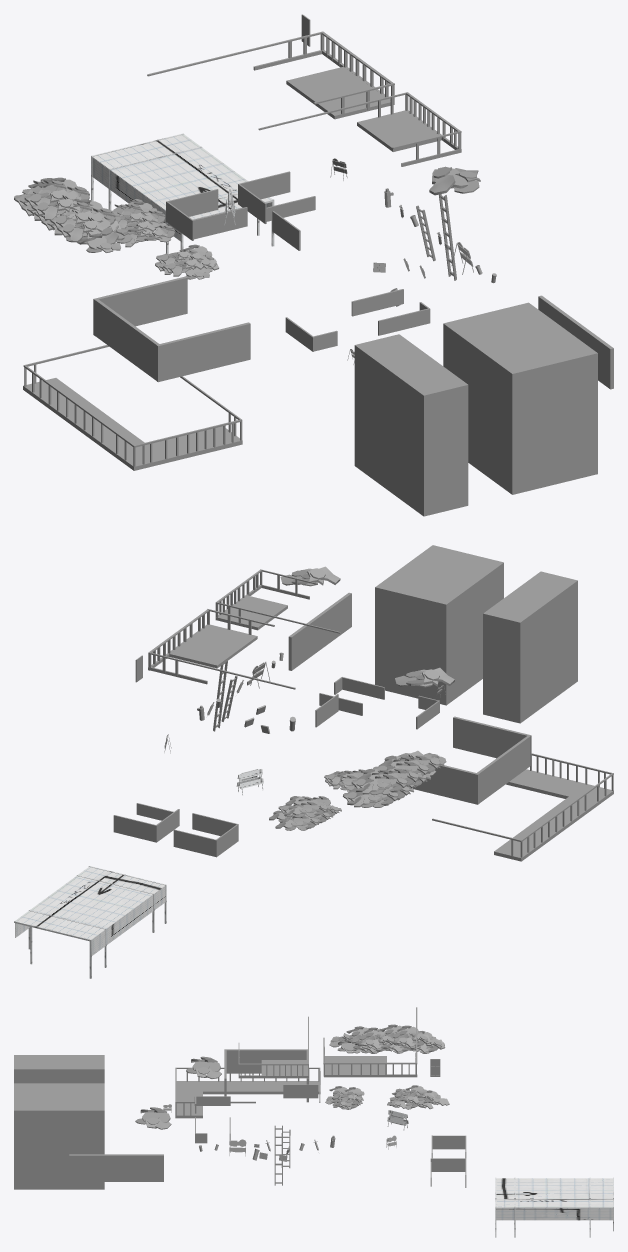
The model's file is Parts_and_pieces.fbx.
The picture shows the model from 3 angles, top to bottom: view 1: azimuth 30°, elevation 25°; view 2: azimuth 150°, elevation 25°; view 3: azimuth 270°, elevation 25°; orthographic projection. The views are drawn at different scales.
Parts seen in each view (by area): view 1: polySurface807, polySurface809, polySurface943, polySurface806, polySurface543, polySurface944, polySurface541, polySurface1621, polySurface1623, polySurface1622, polySurface1002, polySurface808 (+8 smaller); view 2: polySurface807, polySurface809, polySurface943, polySurface806, polySurface543, polySurface944, polySurface541, polySurface808, polySurface1621, polySurface1622, polySurface1002, polySurface1623 (+5 smaller); view 3: polySurface807, polySurface943, polySurface808, polySurface809, polySurface806, polySurface944, polySurface543, polySurface1622, polySurface541, polySurface1002, polySurface1548, polySurface422 (+5 smaller).
Part boxes in pixels (box(x1,y1,x2,y2)): polySurface807: box(443, 302, 597, 494); polySurface809: box(354, 334, 468, 516); polySurface943: box(91, 133, 274, 253); polySurface806: box(23, 345, 242, 470); polySurface543: box(147, 31, 394, 119); polySurface944: box(14, 177, 132, 252); polySurface541: box(258, 92, 461, 166); polySurface1621: box(156, 322, 250, 382); polySurface1623: box(93, 276, 187, 335); polySurface1622: box(94, 298, 158, 380); polySurface1002: box(111, 199, 174, 247); polySurface808: box(538, 295, 613, 389); polySurface807: box(375, 545, 503, 705); polySurface809: box(483, 571, 577, 723); polySurface943: box(14, 866, 166, 978); polySurface806: box(432, 753, 613, 861); polySurface543: box(148, 609, 295, 689); polySurface944: box(343, 750, 446, 807); polySurface541: box(215, 569, 340, 633); polySurface808: box(288, 592, 351, 670); polySurface1621: box(453, 716, 531, 766); polySurface1622: box(475, 735, 530, 803); polySurface1002: box(269, 796, 341, 830); polySurface1623: box(413, 765, 479, 804); polySurface807: box(14, 1083, 104, 1189); polySurface943: box(495, 1177, 613, 1237); polySurface808: box(69, 1154, 163, 1181); polySurface809: box(14, 1055, 104, 1083); polySurface806: box(175, 1067, 320, 1118); polySurface944: box(329, 1024, 445, 1053); polySurface543: box(323, 1007, 417, 1077); polySurface1622: box(224, 1049, 307, 1073); polySurface541: box(238, 1016, 308, 1078); polySurface1002: box(387, 1085, 449, 1109); polySurface1548: box(325, 1086, 364, 1109); polySurface422: box(135, 1107, 171, 1129).
Bounding box in the file's own units: 10 × 6.37 × 19.89.
Materials: 2 (1 with a texture image).
